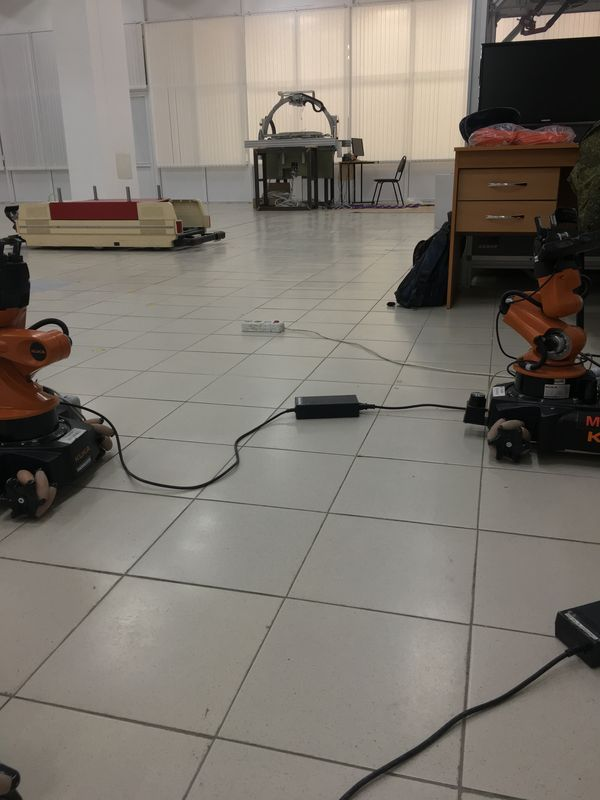socket: (239, 312, 287, 340)
